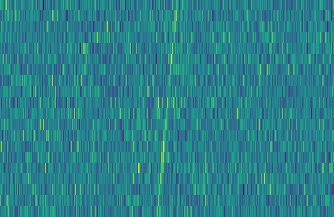signal: (151, 0, 182, 217)
